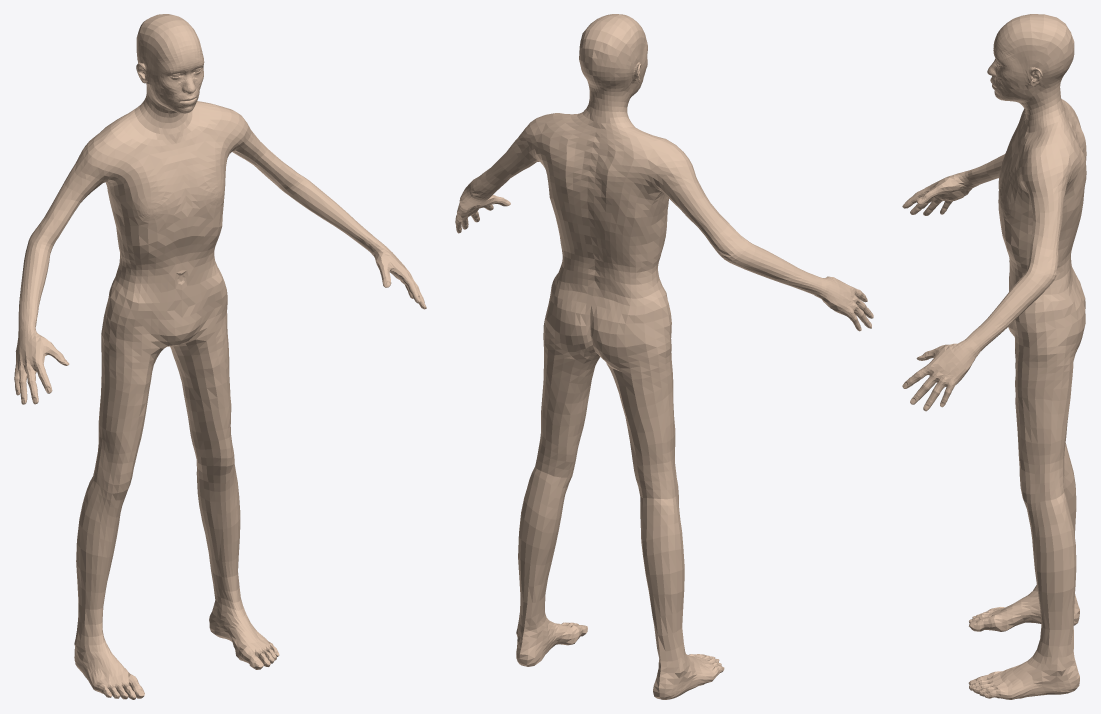
Rendered from male-adult-lean-low.glb.
3 views of the same model, side by side, from view 1: azimuth 30°, elevation 25°; view 2: azimuth 150°, elevation 25°; view 3: azimuth 270°, elevation 25° (orthographic).
Parts seen in each view (by area): view 1: world; view 2: world; view 3: world.
Part boxes in pixels (<box>): world: <box>14,14,426,699</box>; world: <box>455,14,873,699</box>; world: <box>902,14,1086,699</box>.
Bounding box in the file's own units: 1.28 × 1.95 × 0.506.
